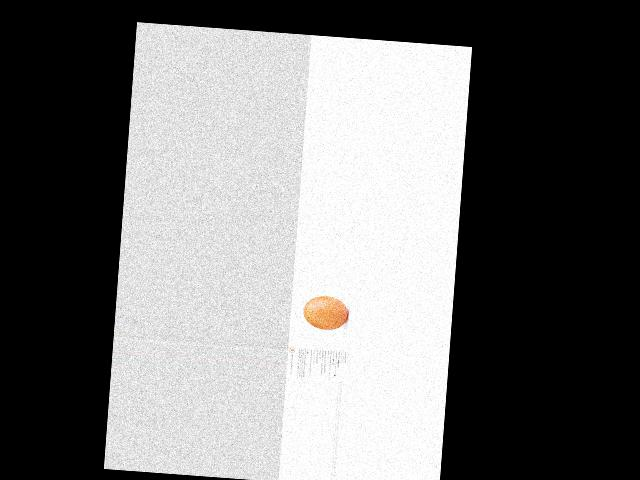egg: (302, 294, 349, 331)
